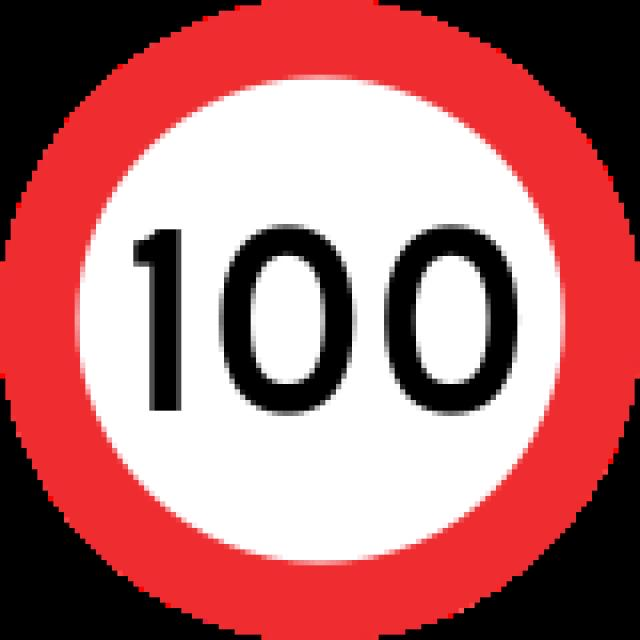Speed Limit -100-: (107, 213, 533, 423)
